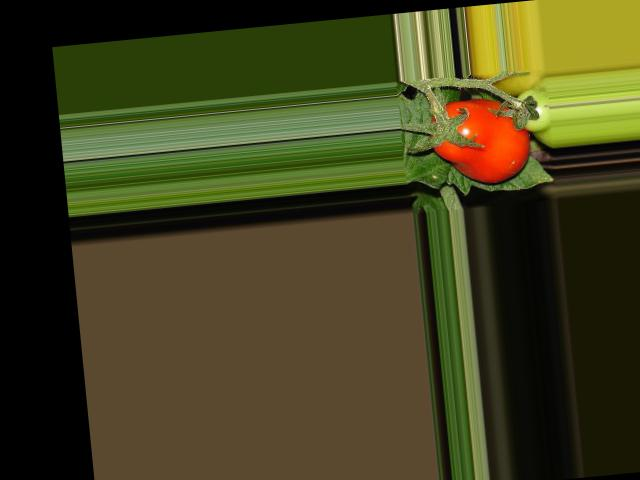tomato: (427, 94, 533, 188)
